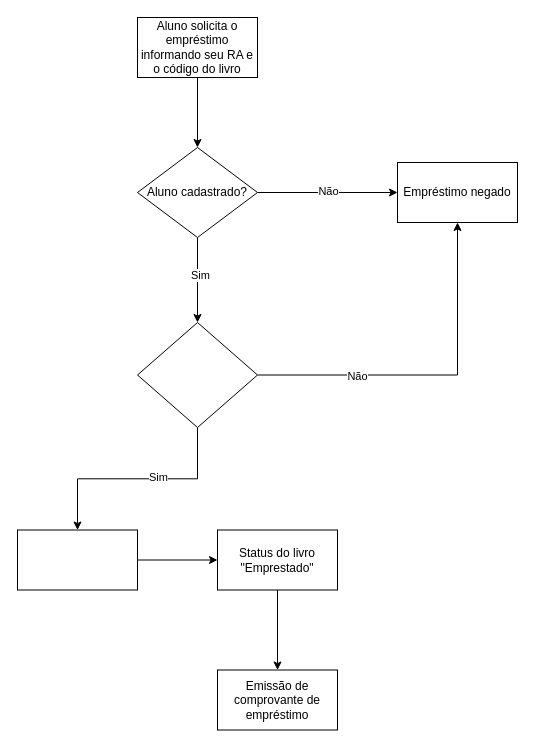
This 535x748 diagram has some shape labels left out. The shapes that lost their labels are listed below. From the top down, each one's centre as x and y in pixels, then its label:
At [197,375]: "Livro Disponível ?".
At [77,559]: "Sistema registra empréstimo".
